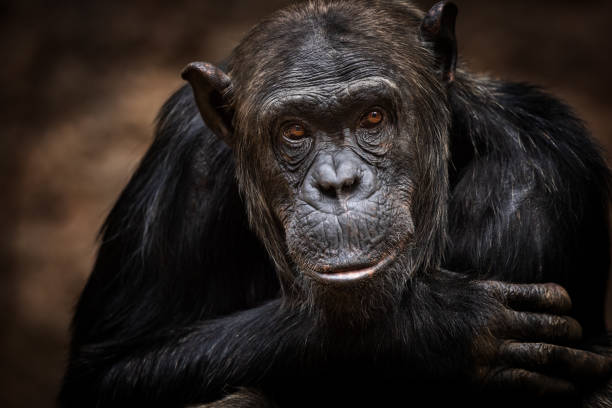chimpanzee: (145, 4, 507, 343)
